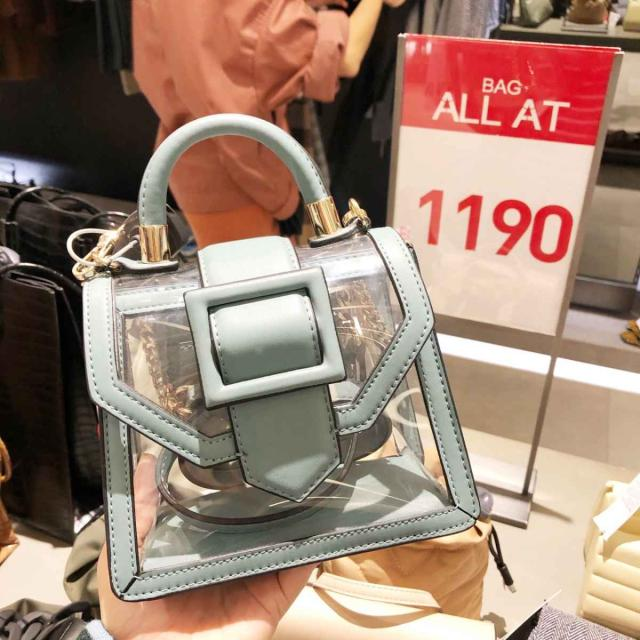handbag: (71, 201, 489, 615)
